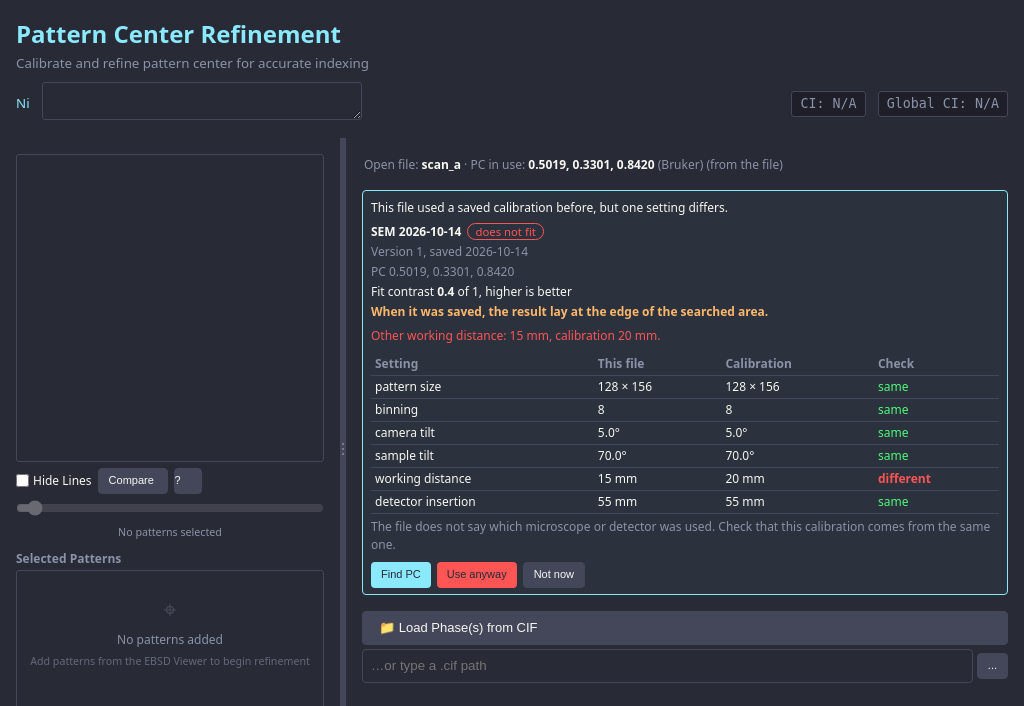
the offer on load › B: a file that used a calibration before, with one setting different, needs "Use anyway" and says what differs
Check: the message with test id "calibration-difference" reads "Other working distance: 15 mm, calibration 20 mm.", box [371,327,660,344]
Check: the button "Find PC" is shown, box [371,562,431,588]
// "Use anyway" is the danger button, the second naming: the request names the file again
Click the button "Use anyway": (477, 575) [437,562,517,588]
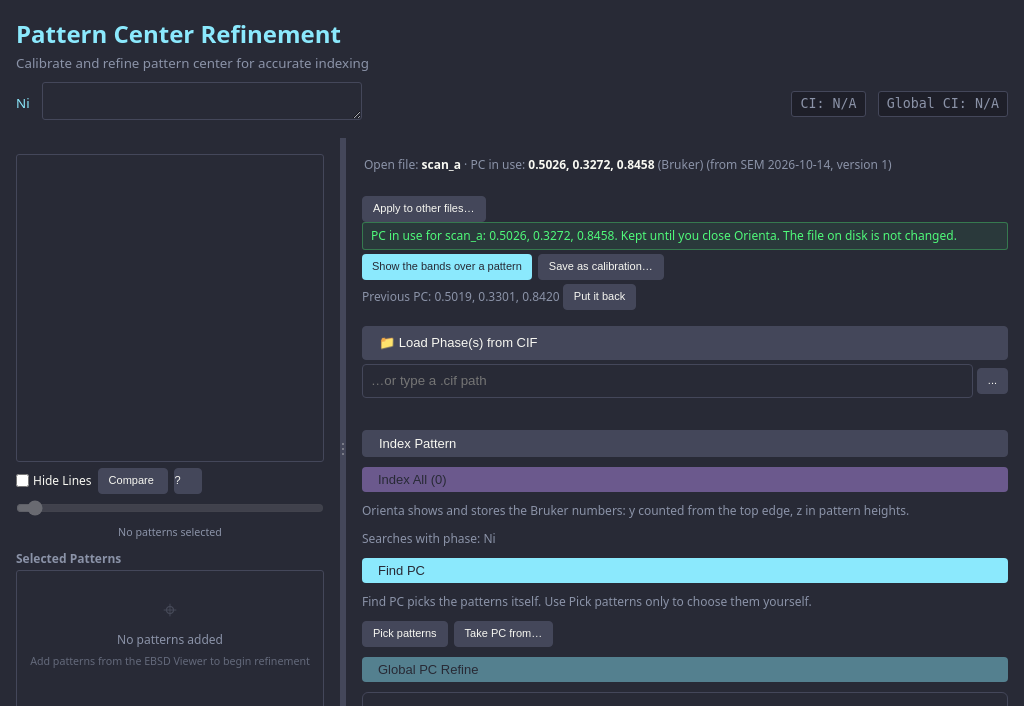
Check: the element with test id "pc-grant" is shown, box [362,222,1008,310]
